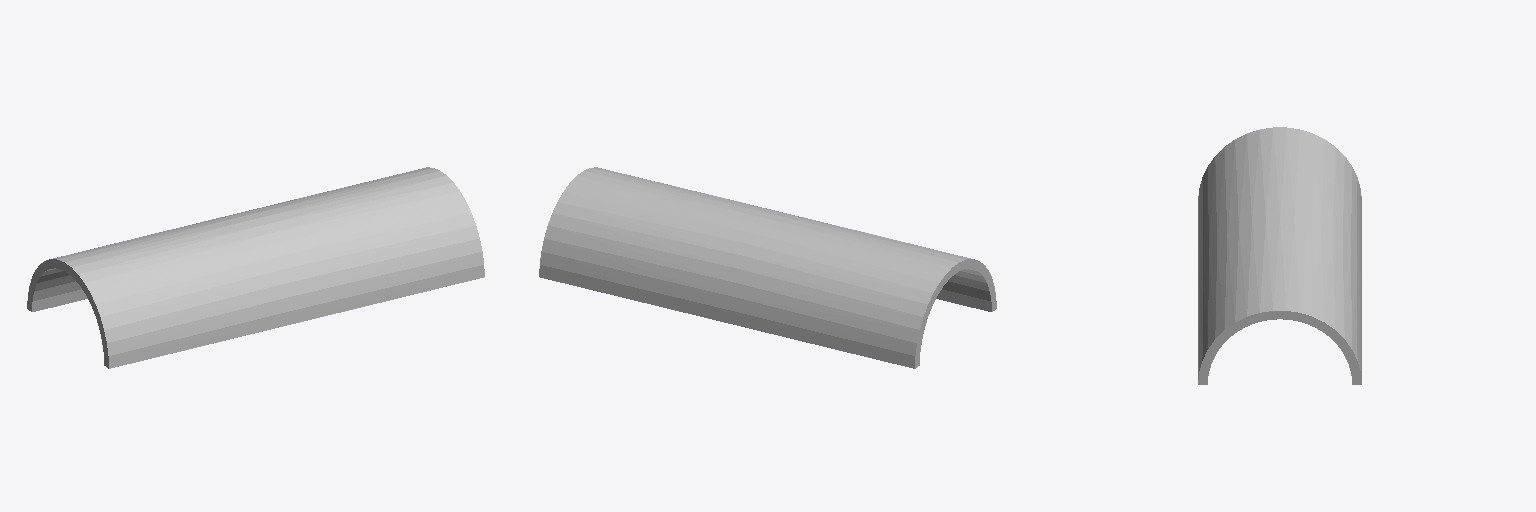
Rendered from LinearTube.obj.
3 renders of one model, left to right at view 1: azimuth 30°, elevation 25°; view 2: azimuth 150°, elevation 25°; view 3: azimuth 270°, elevation 25°, orthographic.
Parts seen in each view (by area): view 1: Body1; view 2: Body1; view 3: Body1.
Part boxes in pixels (left/top/right/bottom): Body1: left=27, top=167, right=484, bottom=368; Body1: left=539, top=167, right=996, bottom=368; Body1: left=1198, top=127, right=1361, bottom=384.
Bounding box in the file's own units: 45 × 8.5 × 17.